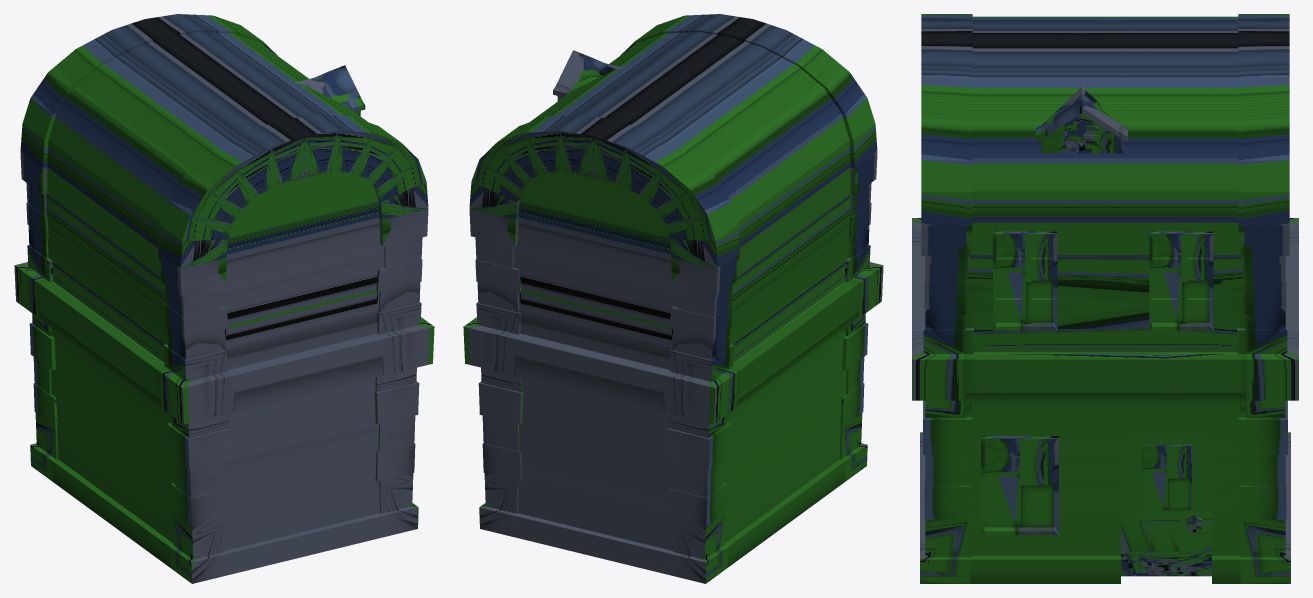
Rendered from City_house_1.obj.
3 renders of one model, left to right at view 1: azimuth 30°, elevation 25°; view 2: azimuth 150°, elevation 25°; view 3: azimuth 270°, elevation 25°, orthographic. The views are drawn at different scales.
Parts seen in each view (by area): view 1: City_house_1; view 2: City_house_1; view 3: City_house_1.
Boxes of the visible parts, x1=… form: City_house_1: x1=14, y1=14, x2=434, y2=583; City_house_1: x1=463, y1=14, x2=883, y2=583; City_house_1: x1=912, y1=14, x2=1298, y2=583.
Bounding box in the file's own units: 4.32 × 6.83 × 4.96.
